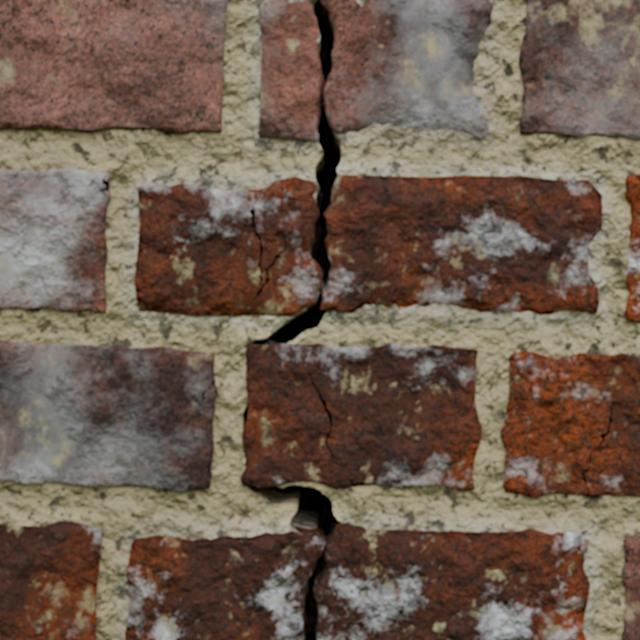broken_brick: (321, 175, 602, 314), (315, 523, 589, 639), (134, 177, 320, 315), (323, 0, 492, 139), (125, 531, 324, 639), (259, 0, 320, 142)
crack: (241, 0, 481, 639), (0, 342, 217, 491), (0, 0, 228, 133), (500, 351, 639, 498), (519, 0, 639, 140), (0, 168, 110, 312), (0, 521, 101, 639), (250, 206, 287, 300), (625, 175, 639, 322), (622, 536, 639, 639), (263, 58, 264, 83), (261, 118, 262, 137), (262, 101, 263, 115)
